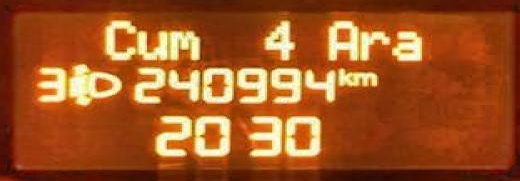0: (191, 111, 230, 158), (282, 112, 322, 157), (198, 64, 232, 104)
2: (150, 112, 191, 157), (130, 65, 165, 105)
3: (240, 112, 281, 158), (28, 64, 65, 104)
4: (258, 17, 297, 61), (165, 65, 200, 102), (302, 65, 333, 102)
9: (233, 64, 267, 105), (268, 64, 302, 105)
X: (322, 16, 358, 62), (100, 15, 133, 61), (133, 26, 168, 62), (390, 26, 423, 62), (167, 25, 198, 62), (357, 27, 388, 61), (352, 67, 377, 87), (335, 64, 351, 87)
